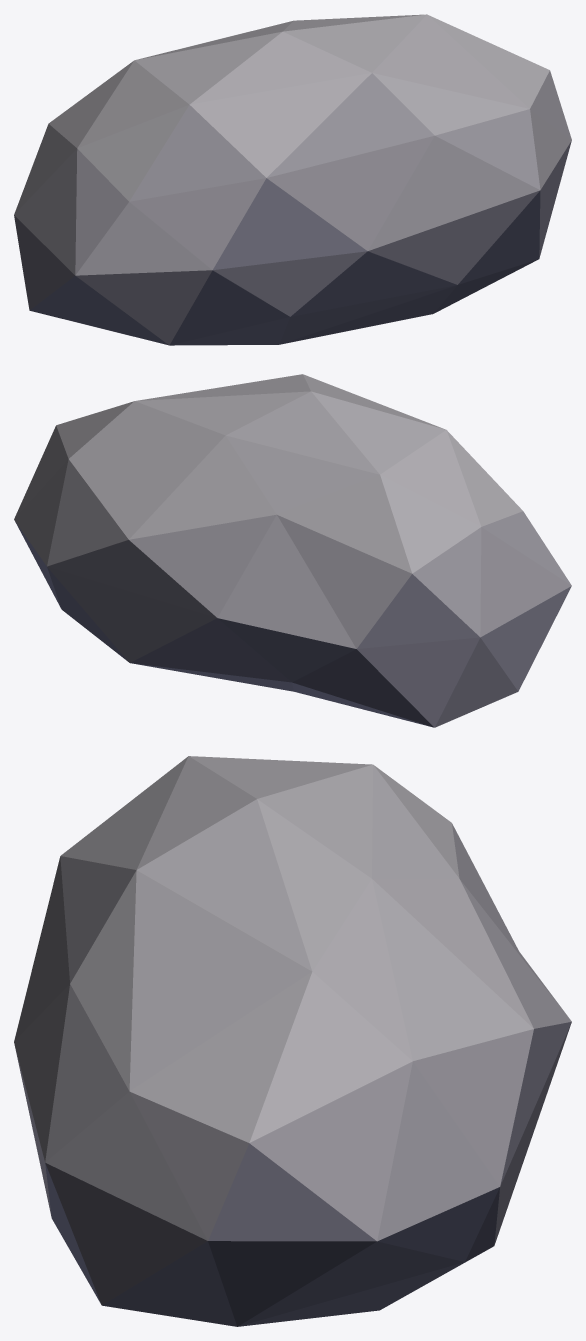
File: stone_basic_c.fbx
The picture shows the model from 3 angles, top to bottom: view 1: azimuth 30°, elevation 25°; view 2: azimuth 150°, elevation 25°; view 3: azimuth 270°, elevation 25°; orthographic projection. The views are drawn at different scales.
Parts seen in each view (by area): view 1: stone_basic_c; view 2: stone_basic_c; view 3: stone_basic_c.
Part boxes in pixels (x1,y1,x2,y2): stone_basic_c: (14, 14, 571, 345); stone_basic_c: (14, 374, 571, 727); stone_basic_c: (14, 756, 571, 1326).
Bounding box in the file's own units: 0.441 × 0.2337 × 0.2795.
